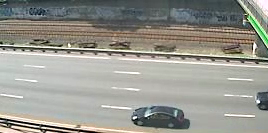car: (131, 105, 186, 130)
